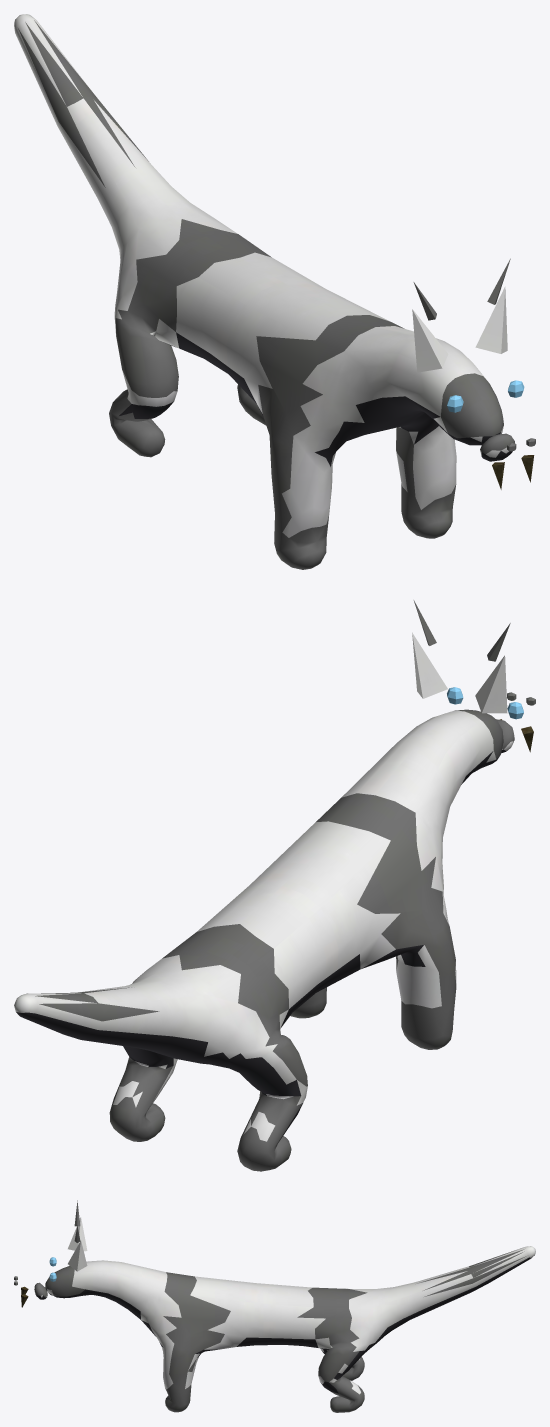
File: pet_pt_baekho.glb
The picture shows the model from 3 angles, top to bottom: view 1: azimuth 30°, elevation 25°; view 2: azimuth 150°, elevation 25°; view 3: azimuth 270°, elevation 25°; orthographic projection. The views are drawn at different scales.
Visible parts, largest first — view 1: pet_pt_baekho; view 2: pet_pt_baekho; view 3: pet_pt_baekho.
Part boxes in pixels (x1,y1,x2,y2): pet_pt_baekho: (14, 14, 535, 569); pet_pt_baekho: (14, 600, 535, 1171); pet_pt_baekho: (14, 1200, 535, 1412).
Bounding box in the file's own units: 0.4095 × 0.7915 × 2.04.
Materials: 5 (4 with a texture image).
